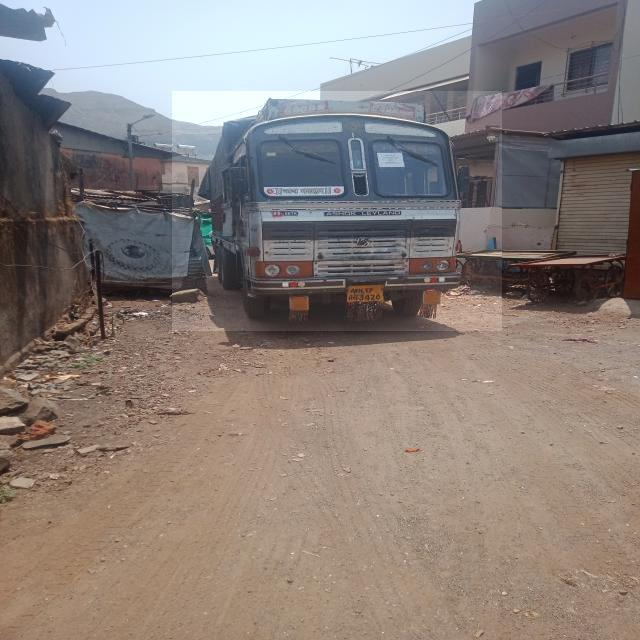Truck: (172, 91, 502, 332)
